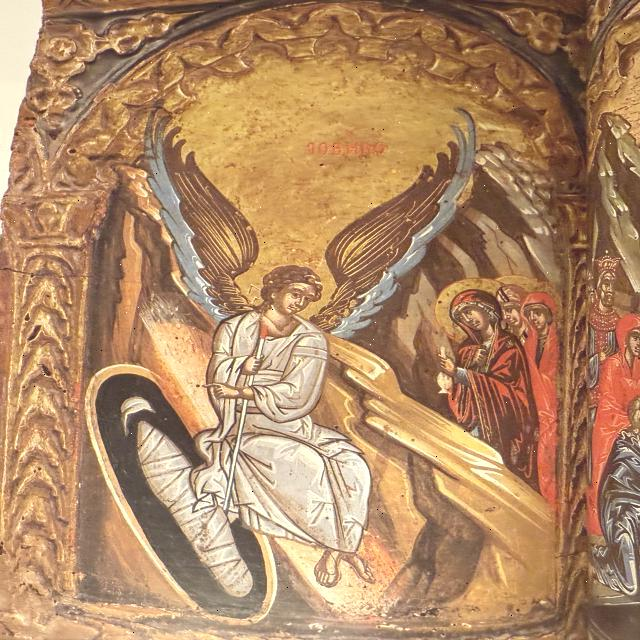angel: (97, 80, 497, 584)
aura: (437, 281, 509, 345)
wing: (312, 97, 492, 328), (136, 93, 259, 315)
